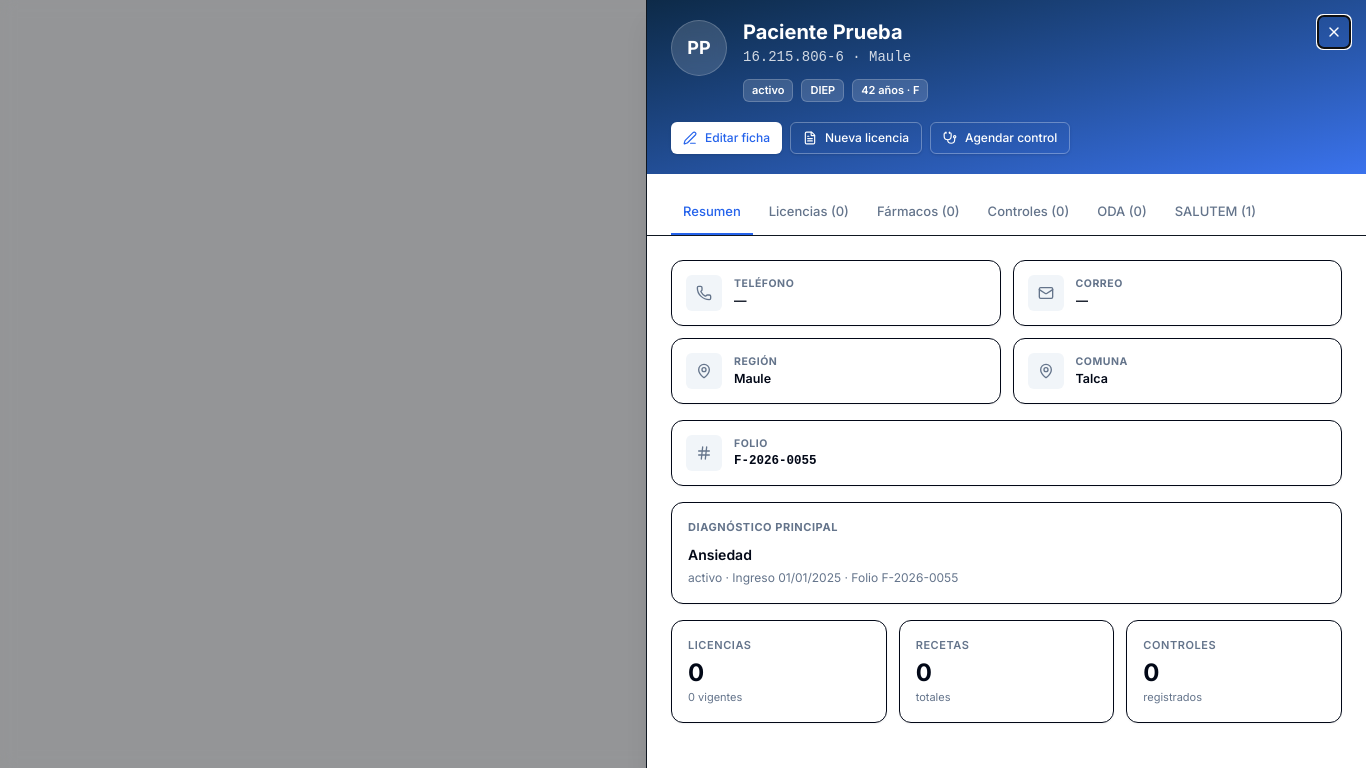
Scenario: PatientSheet — pestaña SALUTEM › lista las atenciones ya importadas con su fecha y especialidad
The image size is (1366, 768).
Expected: the heading "Paciente Prueba" is shown, [743,20,902,44]
Click the tab "SALUTEM (1)" at point(1215, 212), box [1163,190,1268,235]
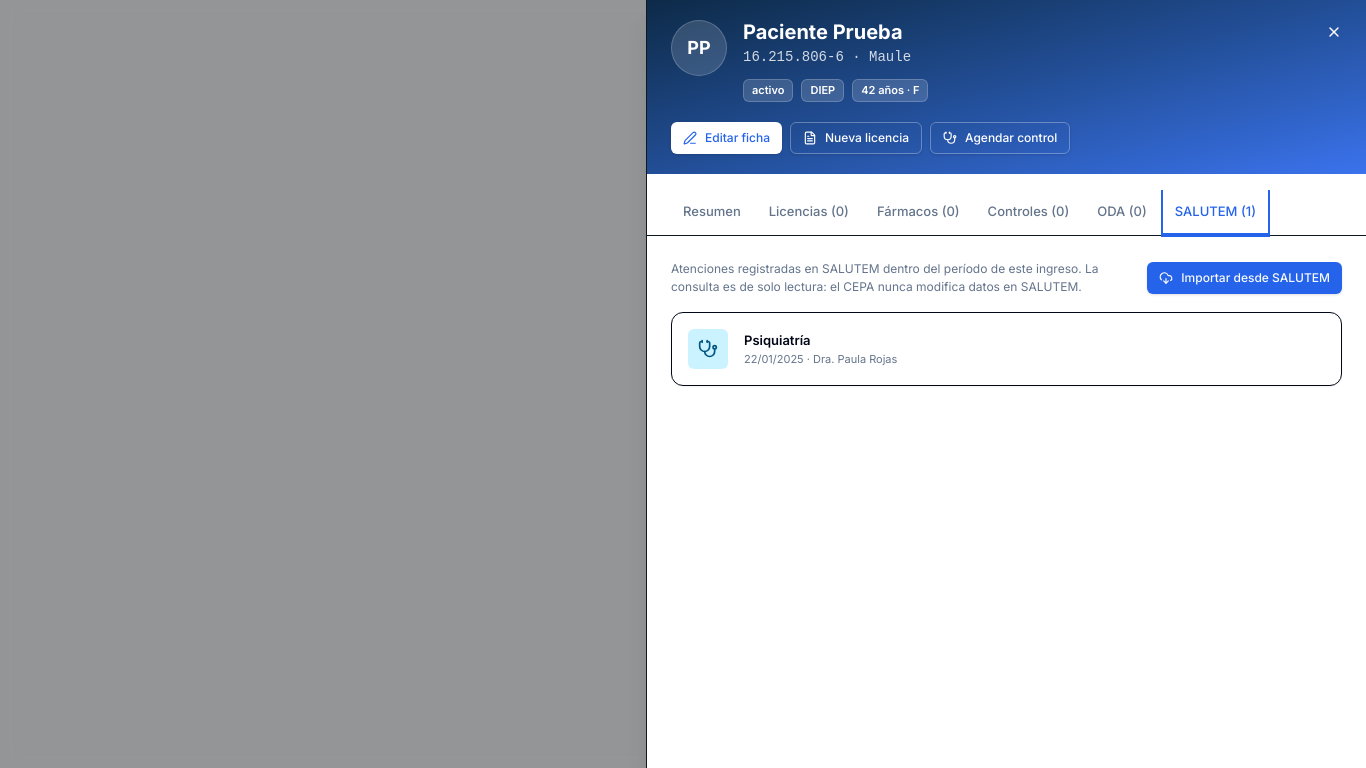
Expected: the text "Psiquiatría" is shown, [744,332,811,348]
Expected: the text "22/01/2025 · Dra. Paula Rojas" is shown, [744,352,897,366]
